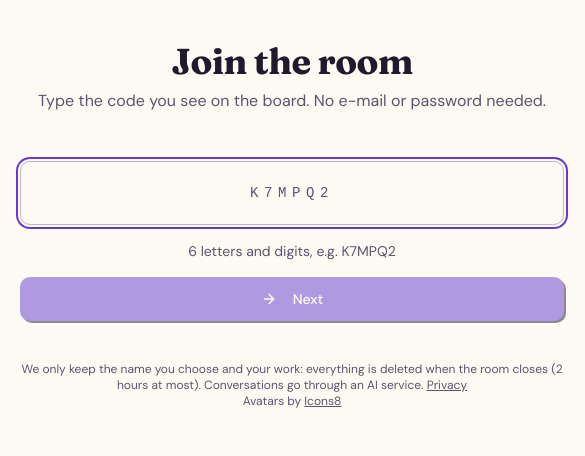
Test: JoinRoomPage › tells when a code does not exist and when the room is locked
Type "ab-c 12z" into the field with placeholder "K7MPQ2" at (292,193), box left=20, top=161, right=564, bottom=225
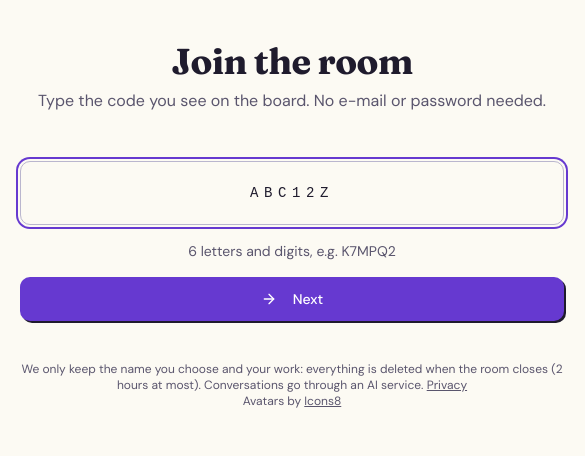
Now the field with placeholder "K7MPQ2" holds "ABC12Z", box left=20, top=161, right=564, bottom=225
Click the button "Next" at (292,299), box left=20, top=277, right=564, bottom=321
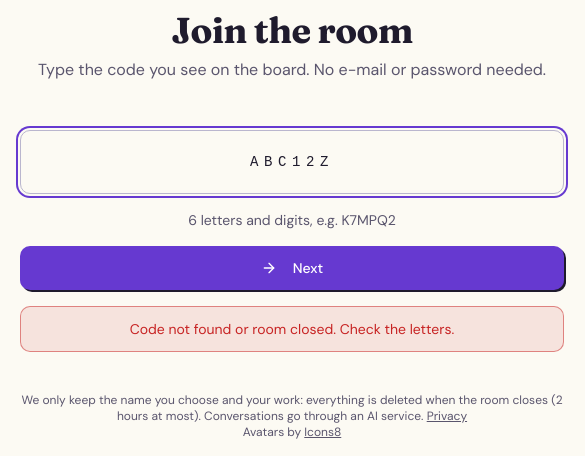
Now the message shows "Code not found", box left=130, top=320, right=454, bottom=338
Click the button "Next" at (292,268), box left=20, top=246, right=564, bottom=290
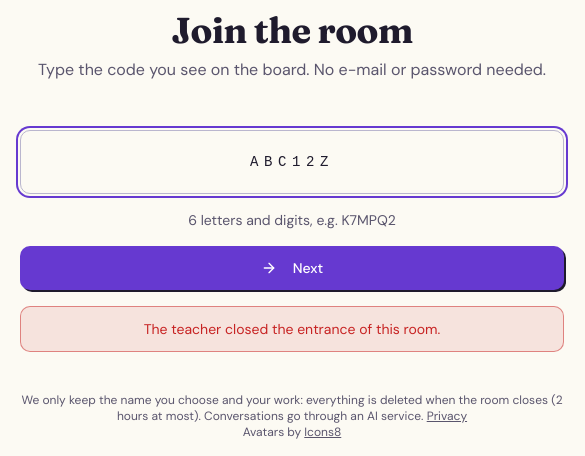
Now the message shows "closed the entrance", box left=144, top=320, right=440, bottom=338
